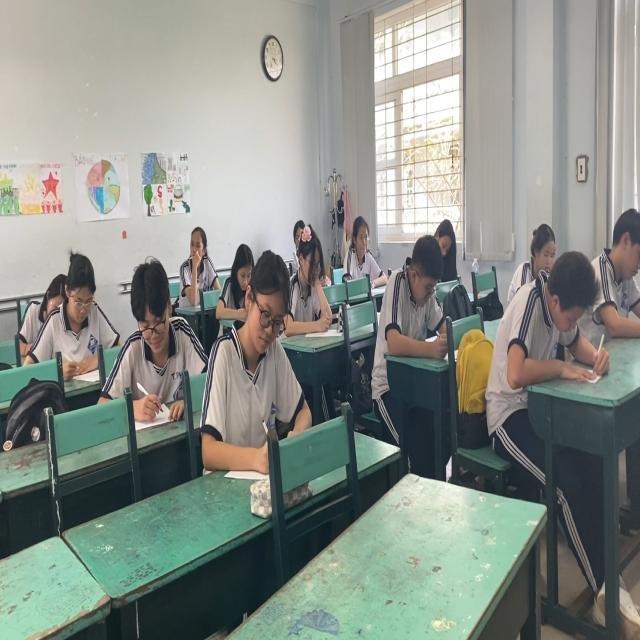not_cheating: (216, 243, 302, 443), (111, 247, 208, 402), (486, 247, 601, 377), (45, 240, 113, 374), (374, 233, 442, 358), (278, 215, 337, 343), (337, 198, 385, 278), (177, 229, 214, 291)
